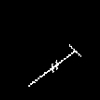treble_crochet: (29, 44, 79, 86)
